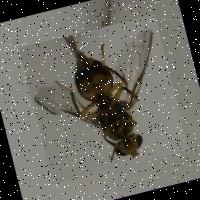Oriental-fruit-fly: (17, 14, 188, 184)
